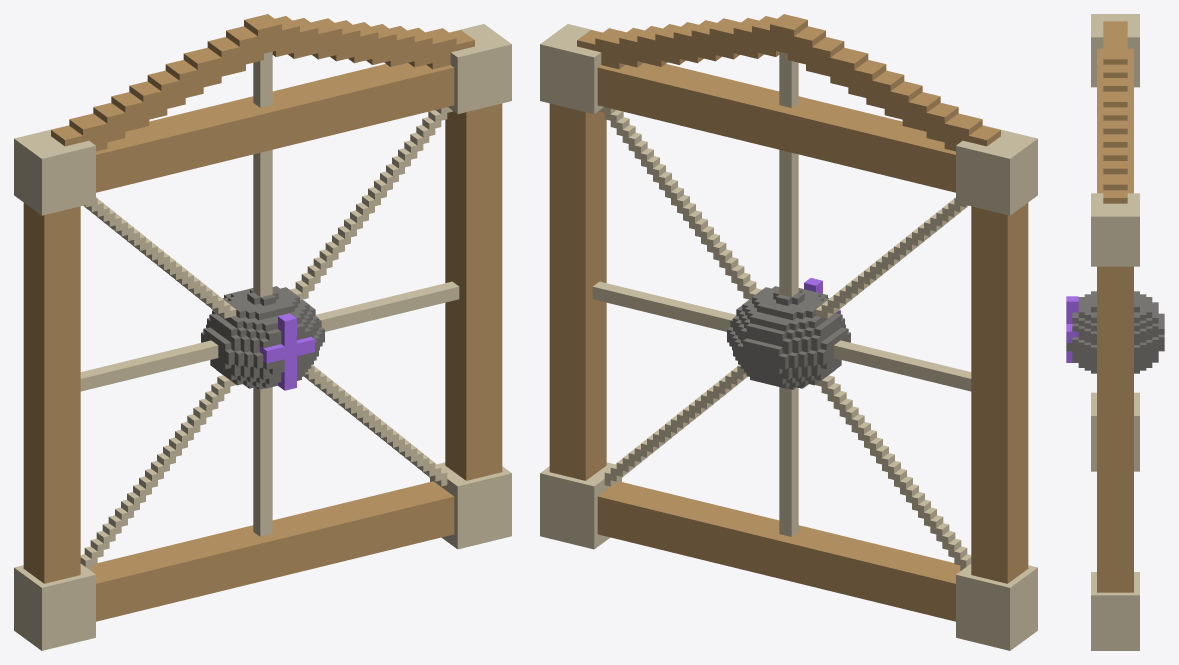
Rendered from strung_rune_frame.glb.
3 renders of one model, left to right at view 1: azimuth 30°, elevation 25°; view 2: azimuth 150°, elevation 25°; view 3: azimuth 270°, elevation 25°, orthographic. The views are drawn at different scales.
Visible parts, largest first — view 1: strung_rune_frame:compound; view 2: strung_rune_frame:compound; view 3: strung_rune_frame:compound.
Part boxes in pixels (x1,y1,x2,y2): strung_rune_frame:compound: (14, 14, 511, 650); strung_rune_frame:compound: (540, 14, 1037, 650); strung_rune_frame:compound: (1066, 14, 1164, 650).
Size of the model in its own units: 0.156 by 0.178 by 0.032.
